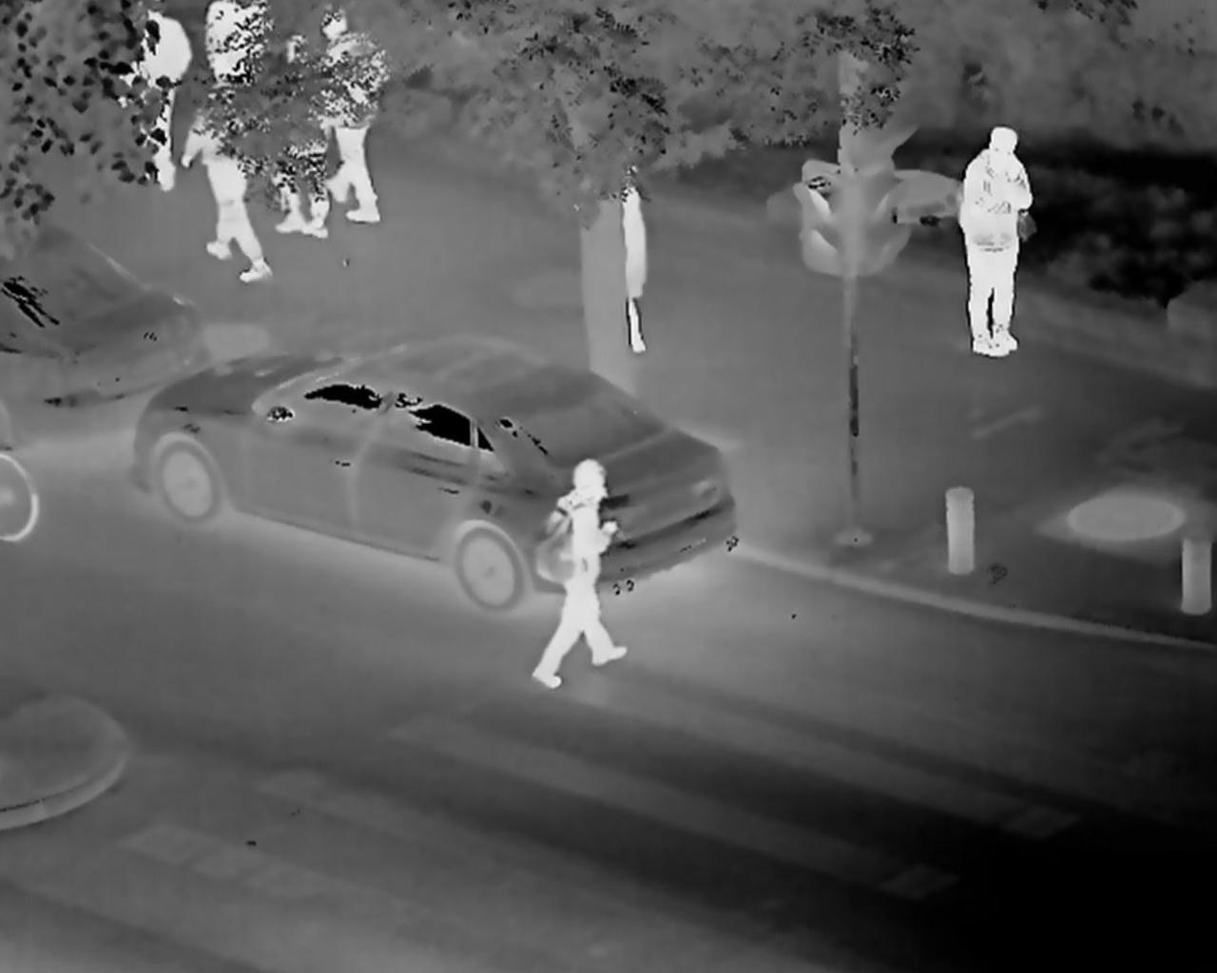person: (531, 454, 640, 687), (942, 119, 1035, 363), (178, 72, 278, 290), (259, 32, 336, 269), (312, 14, 384, 229), (582, 151, 654, 364), (122, 7, 194, 202), (200, 3, 263, 148)
